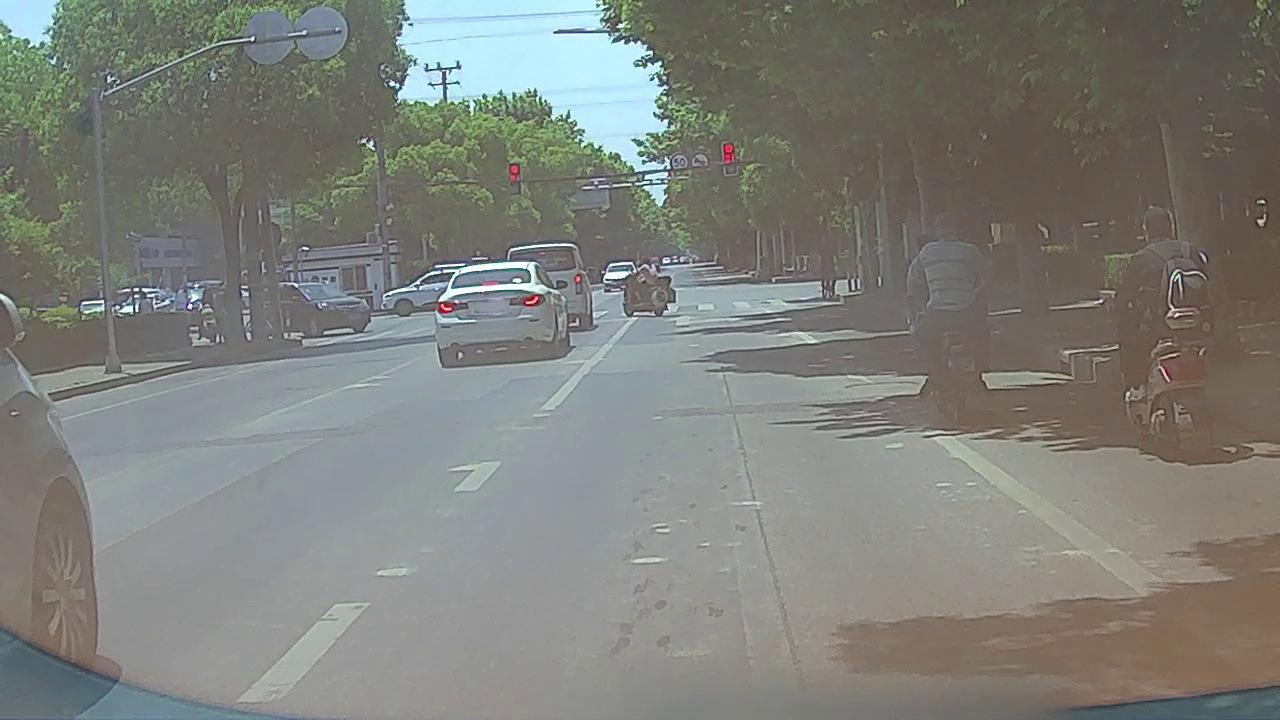traffic_light: (722, 143, 737, 176), (508, 163, 522, 195)
